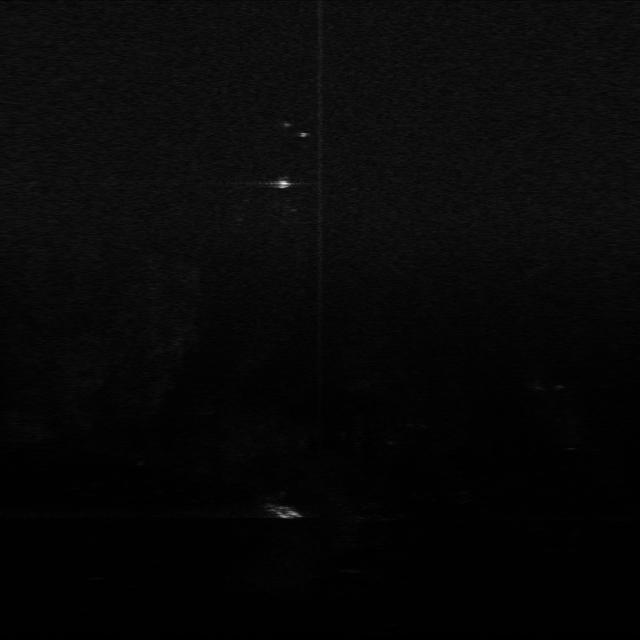rov: (269, 174, 297, 193)
